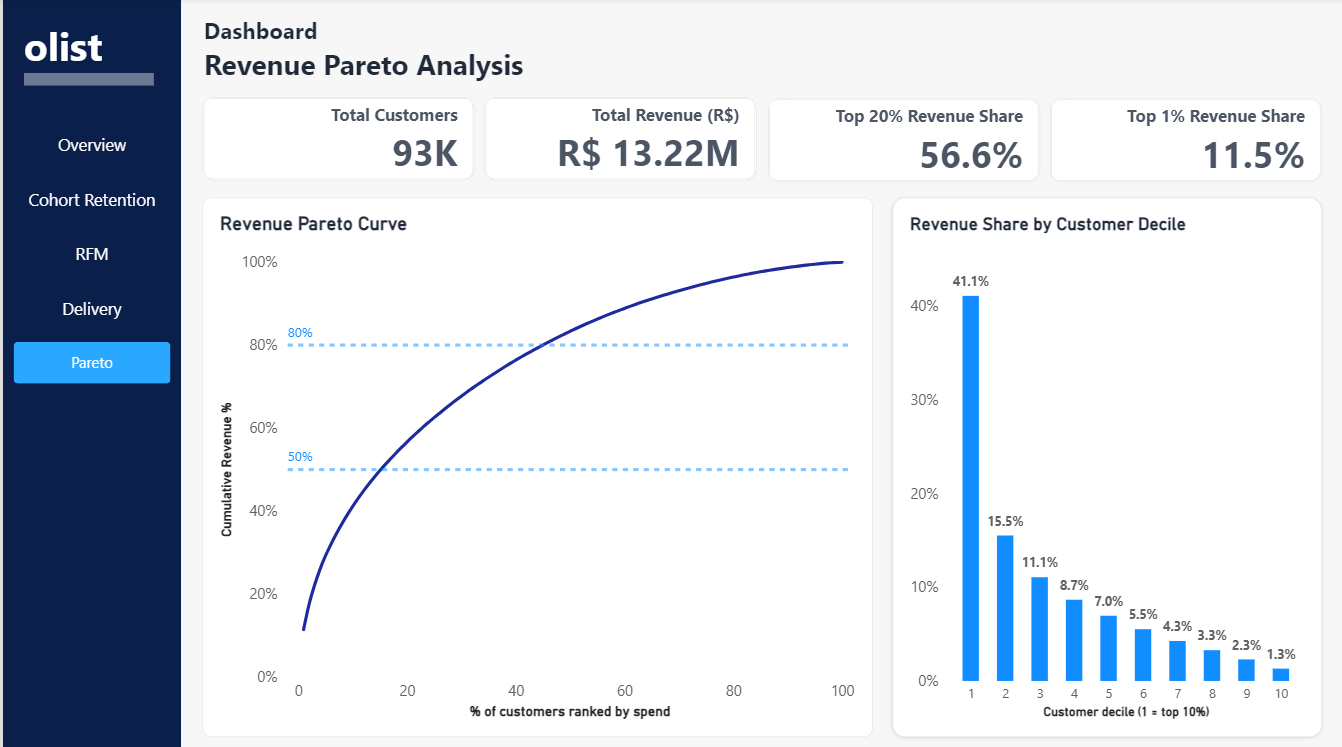

What the dashboard file says about the page in this screenshot:
{"tool":"powerbi","page":{"name":"Pareto","canvas":[1280,720],"ordinal":4},"visuals":[{"type":"shape","box":[0,0,170,720],"z":0},{"type":"textbox","box":[20,20,160,64],"z":1000},{"type":"shape","box":[20,72,124,12],"z":2000},{"type":"pageNavigator","box":[10,120,150,250],"z":3000},{"type":"textbox","box":[192,16,480,70],"z":4000},{"type":"cardVisual","fields":{"Data":["revenue_pareto.Pareto Customers"]},"box":[190,95,260,80],"z":5000},{"type":"cardVisual","fields":{"Data":["revenue_pareto.Pareto Revenue"]},"box":[460,95,260,80],"z":6000},{"type":"cardVisual","fields":{"Data":["revenue_pareto.Top 20% Revenue Share"]},"box":[730,96,260,80],"z":7000},{"type":"cardVisual","fields":{"Data":["revenue_pareto.Top 1% Revenue Share"]},"box":[1000,96,260,80],"z":8000},{"type":"lineChart","title":"Revenue Pareto Curve","fields":{"Category":["revenue_pareto.Customer Percentile"],"Y":["revenue_pareto.Cumulative Revenue %"]},"box":[190,190,640,515],"z":8001},{"type":"clusteredColumnChart","title":"Revenue Share by Customer Decile","fields":{"Category":["revenue_pareto.Customer Decile"],"Y":["revenue_pareto.Pareto Revenue Share %"]},"box":[850,190,410,515],"z":8002}]}

Visuals, with their boxes on the page's 1280x720 design canvas (x1, y1, x2, y2). These are canvas units, not pixel positions in the 1342x747 screenshot, which may show the page scaled, cropped or inside an application window:
shape: 0, 0, 170, 720
textbox: 20, 20, 180, 84
shape: 20, 72, 144, 84
pageNavigator: 10, 120, 160, 370
textbox: 192, 16, 672, 86
cardVisual - revenue_pareto.Pareto Customers: 190, 95, 450, 175
cardVisual - revenue_pareto.Pareto Revenue: 460, 95, 720, 175
cardVisual - revenue_pareto.Top 20% Revenue Share: 730, 96, 990, 176
cardVisual - revenue_pareto.Top 1% Revenue Share: 1000, 96, 1260, 176
"Revenue Pareto Curve" lineChart: 190, 190, 830, 705
"Revenue Share by Customer Decile" clusteredColumnChart: 850, 190, 1260, 705
